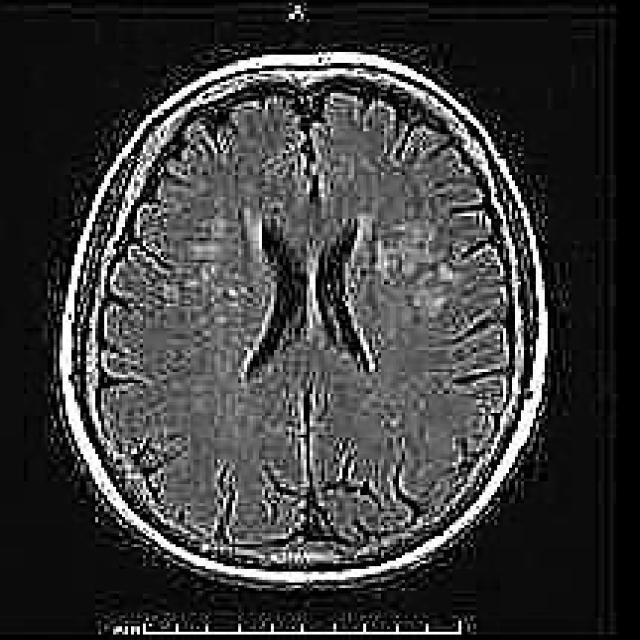notumor: (57, 55, 548, 599)
